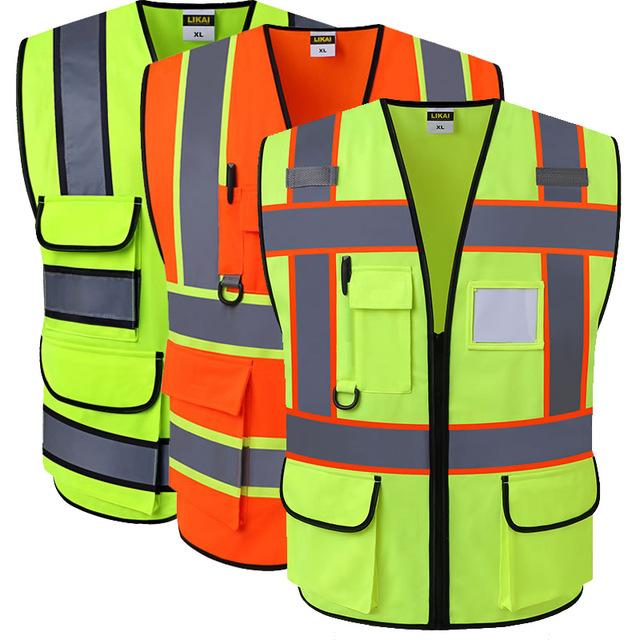Reflective-Jacket: (252, 17, 640, 635), (128, 17, 506, 584), (11, 4, 298, 539)
